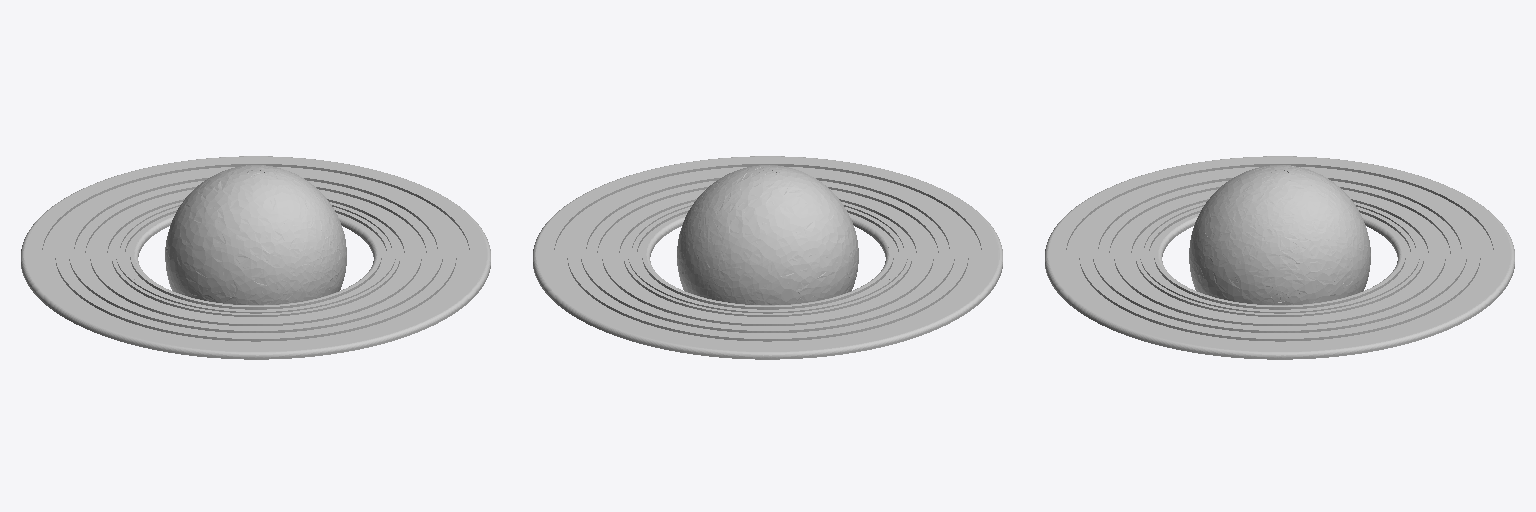
The model's file is planetRing.obj.
3 views of the same model, side by side, from view 1: azimuth 30°, elevation 25°; view 2: azimuth 150°, elevation 25°; view 3: azimuth 270°, elevation 25° (orthographic).
Visible parts, largest first — view 1: obj_0; view 2: obj_0; view 3: obj_0.
Part boxes in pixels (bbox=[...]): obj_0: bbox=[21, 156, 490, 359]; obj_0: bbox=[533, 156, 1002, 359]; obj_0: bbox=[1045, 156, 1514, 359].
Bounding box in the file's own units: 88 × 34 × 88.